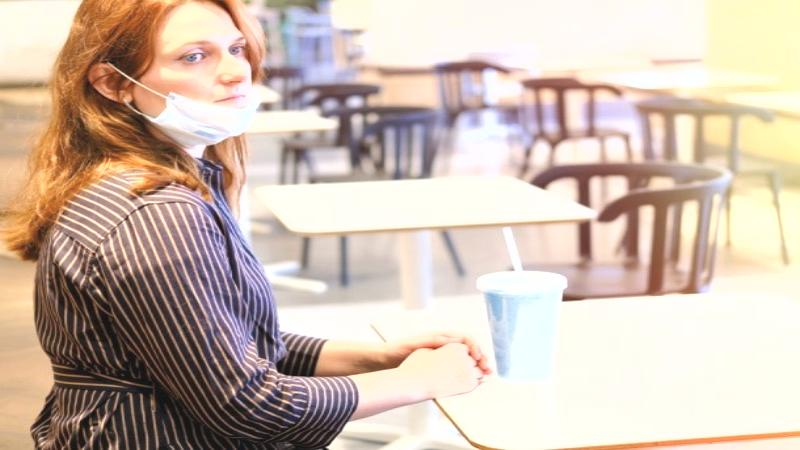mask_weared_incorrect: (58, 1, 259, 148)
